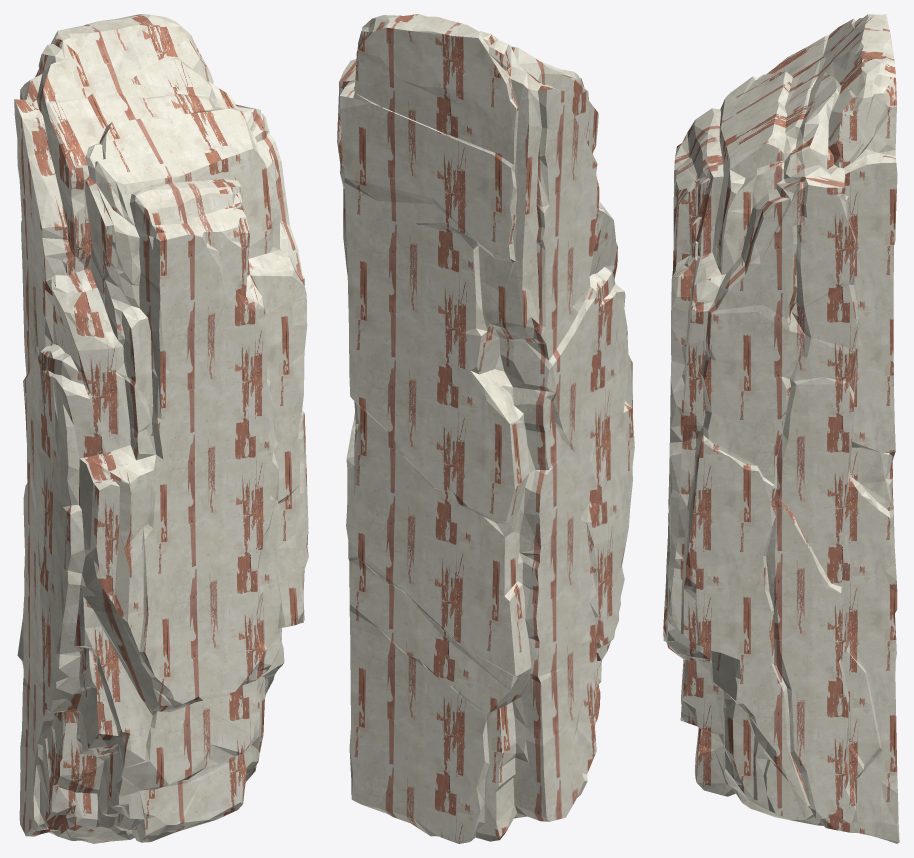
Rendered from RockTest01.FBX.
3 views of the same model, side by side, from view 1: azimuth 30°, elevation 25°; view 2: azimuth 150°, elevation 25°; view 3: azimuth 270°, elevation 25° (orthographic).
Parts seen in each view (by area): view 1: Default_001; view 2: Default_001; view 3: Default_001.
Part boxes in pixels (x1,y1,x2,y2): Default_001: [14, 14, 308, 843]; Default_001: [337, 14, 634, 843]; Default_001: [663, 14, 899, 843].
Size of the model in its own units: 9.02 by 29.08 by 7.82.
